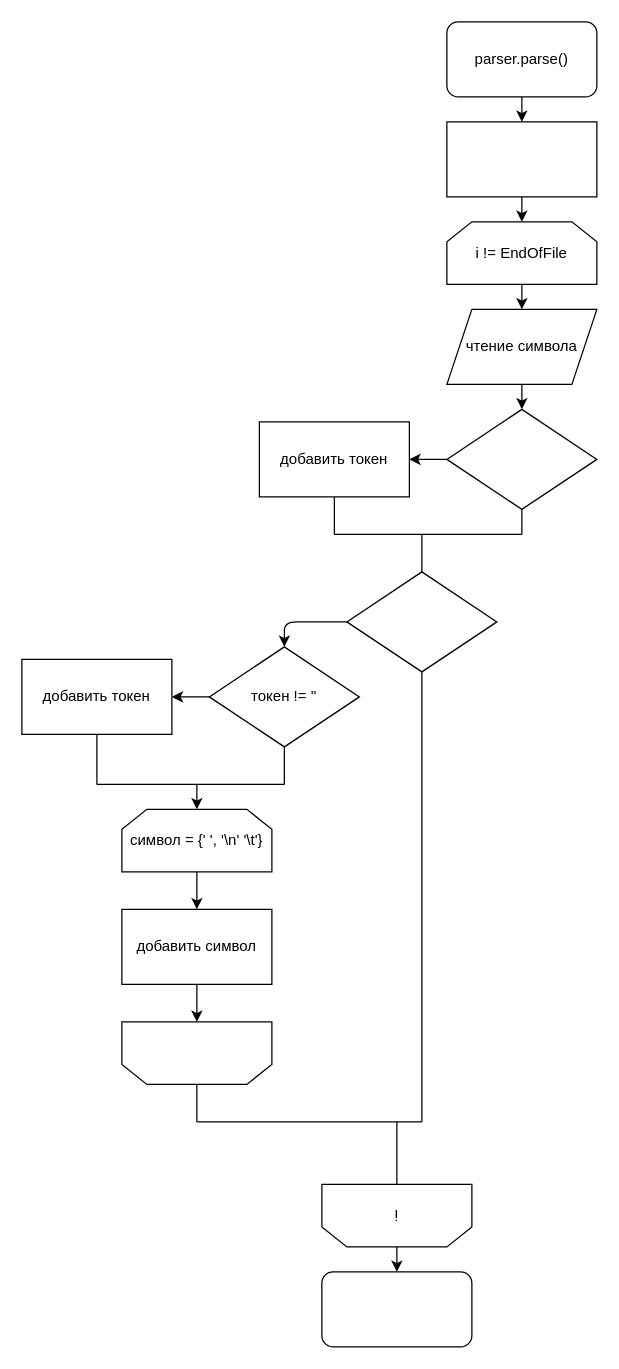
Some shapes in this 619 by 1369 pixel diagram are drawn without their labels. Here are the shapes that lost their labels. From the top down, the centre of each, then its label:
At (x=521, y=159): "открытие файла".
At (x=521, y=458): "символ = {'(', '{', '}', ')', ';'}".
At (x=421, y=621): "символ = {' ', '\n', \t}".
At (x=396, y=1309): "конец parser".
